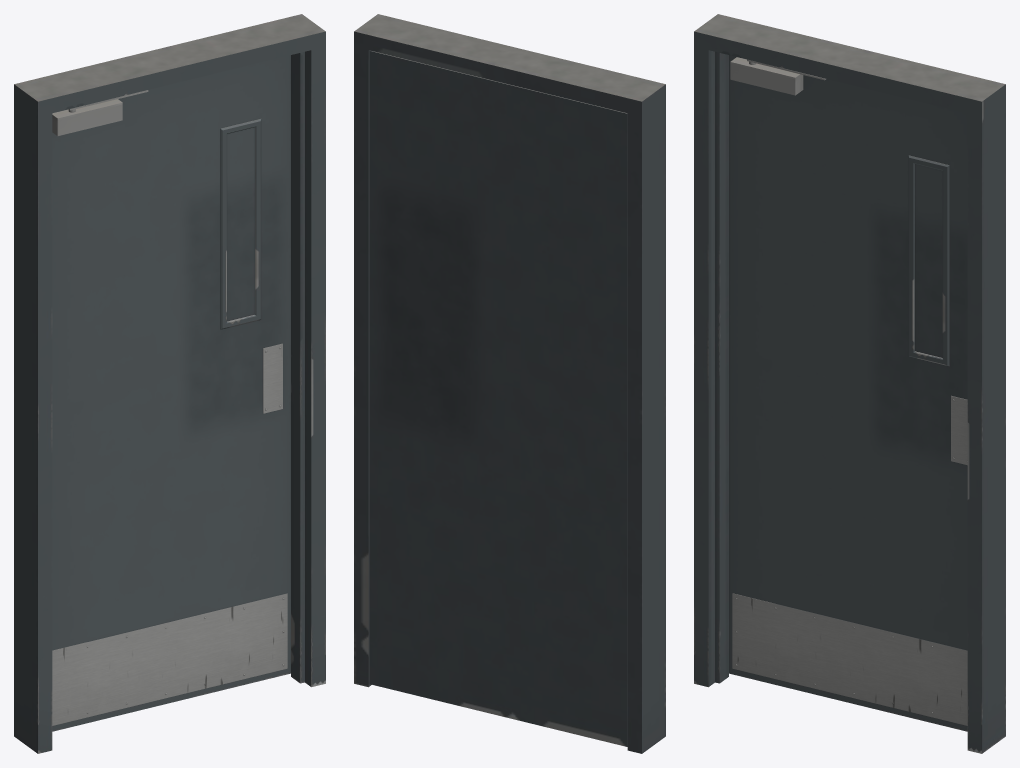
File: same_seed_sealed_room_door.glb
3 views of the same model, side by side, from view 1: azimuth 30°, elevation 25°; view 2: azimuth 150°, elevation 25°; view 3: azimuth 330°, elevation 25° (orthographic).
Parts seen in each view (by area): view 1: door_leaf_low, door_frame_low, door_kick_plate_low, door_lite_rim_low, door_closer_body_low, door_lock_blank_low; view 2: door_leaf_low, door_frame_low; view 3: door_leaf_low, door_frame_low, door_kick_plate_low, door_lite_rim_low, door_closer_body_low, door_lock_blank_low.
Boxes of the visible parts, x1,y1,x2,y2 form: door_leaf_low: (52, 55, 290, 731); door_frame_low: (14, 14, 325, 753); door_kick_plate_low: (52, 593, 287, 725); door_lite_rim_low: (220, 119, 261, 329); door_closer_body_low: (52, 99, 122, 136); door_lock_blank_low: (263, 343, 282, 413); door_leaf_low: (369, 50, 627, 746); door_frame_low: (354, 14, 665, 753); door_leaf_low: (729, 55, 967, 731); door_frame_low: (694, 14, 1005, 753); door_kick_plate_low: (732, 593, 967, 725); door_lite_rim_low: (908, 155, 949, 366); door_closer_body_low: (730, 57, 803, 95); door_lock_blank_low: (951, 395, 967, 465).
Size of the model in its own units: 1.02 by 2.2 by 0.146.
5 materials, 5 textured.
